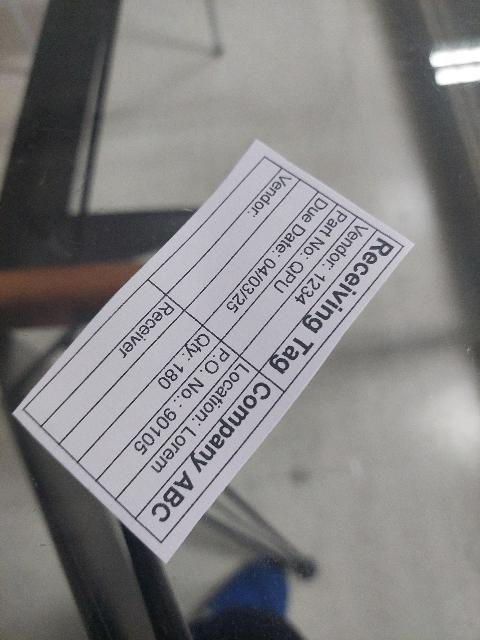PO no: (95, 340, 240, 500)
part no: (222, 203, 359, 357)
qty: (78, 325, 222, 481)
tags: (13, 141, 414, 566)
